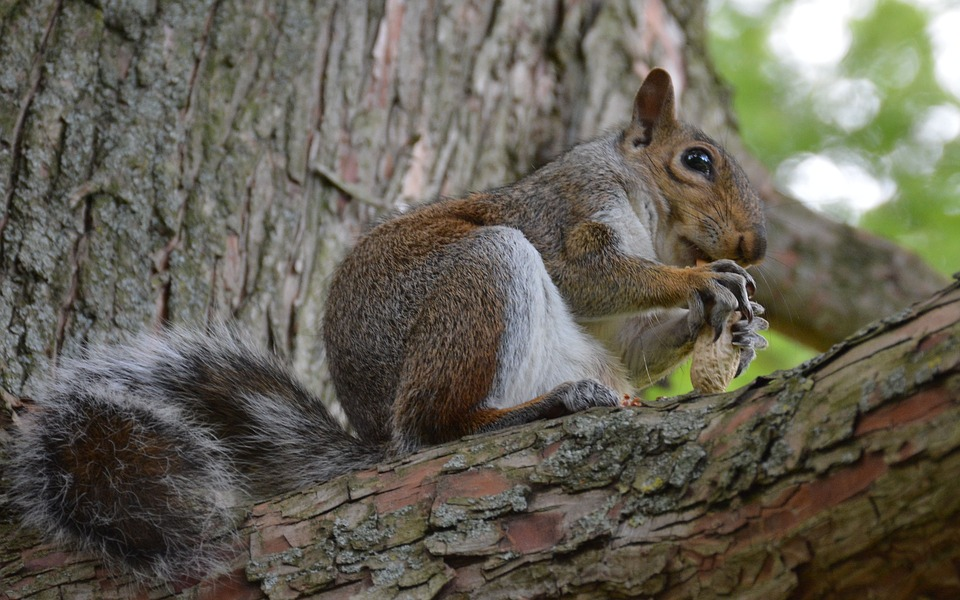squirrel: (154, 64, 778, 483)
